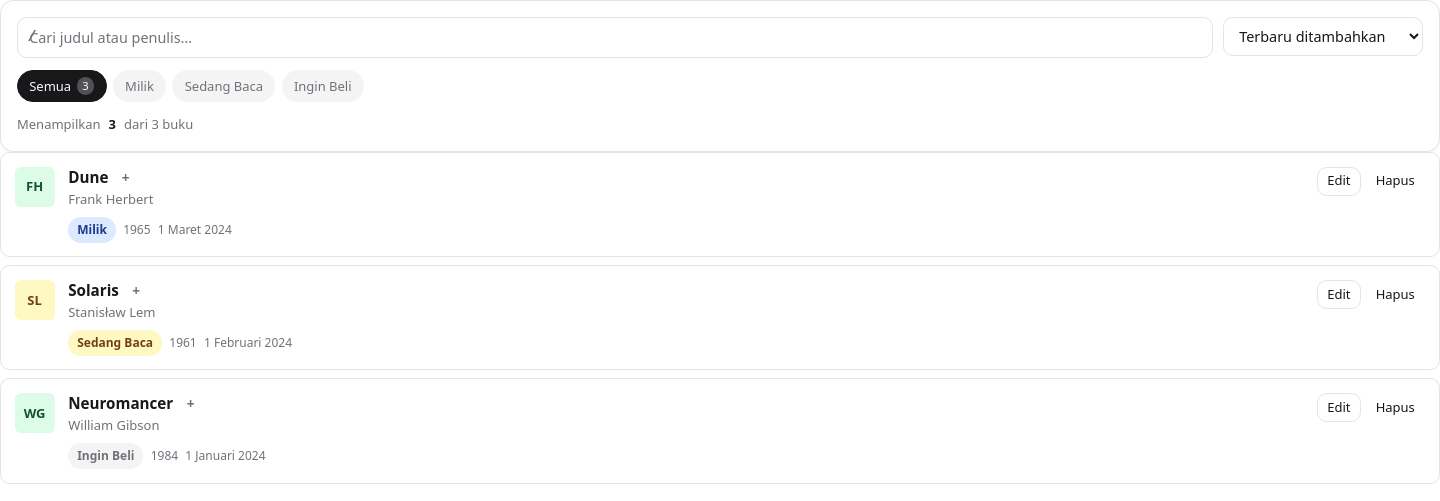
Test: useBookFilter + BookFilter + BookList › mencari buku berdasarkan judul
Type "dune" into the search field named "cari buku" at point(615, 38), box x1=17 y1=17 x2=1213 y2=58
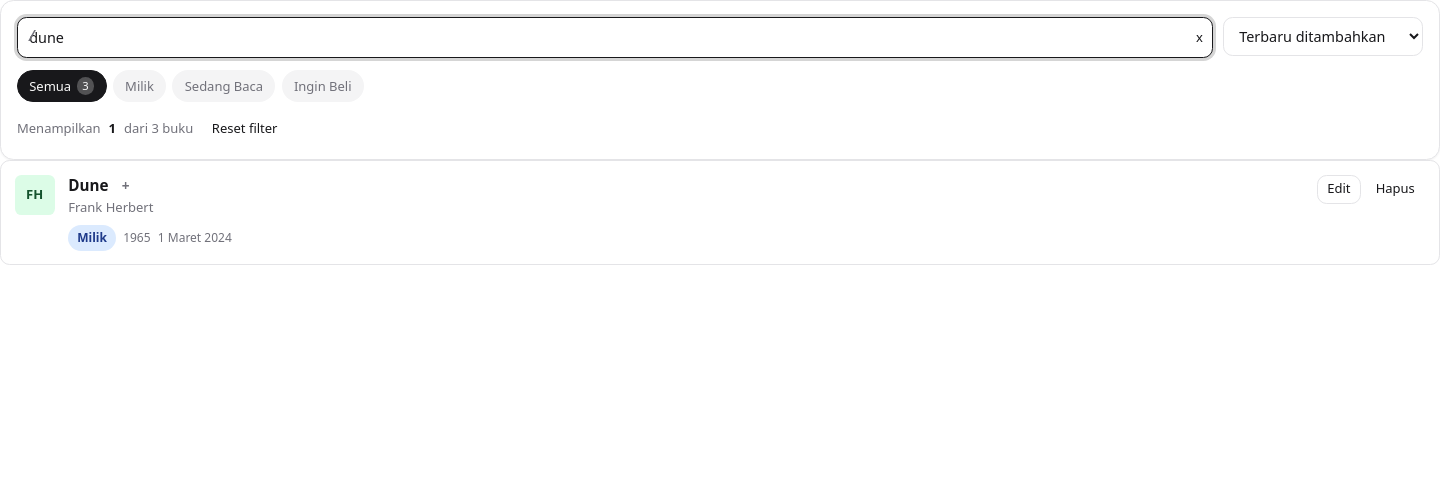
Expected: the heading "Dune" is shown, x1=68 y1=175 x2=108 y2=195
Result: the heading "Solaris" is gone
